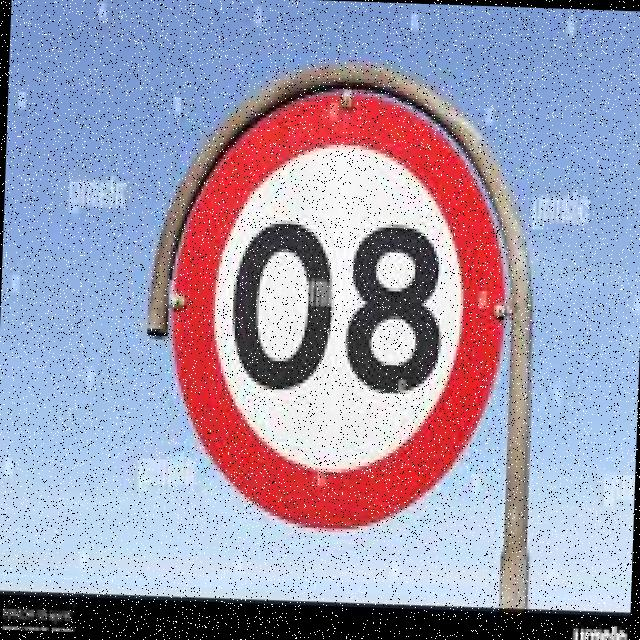speed_limit_80: (158, 81, 517, 540)
